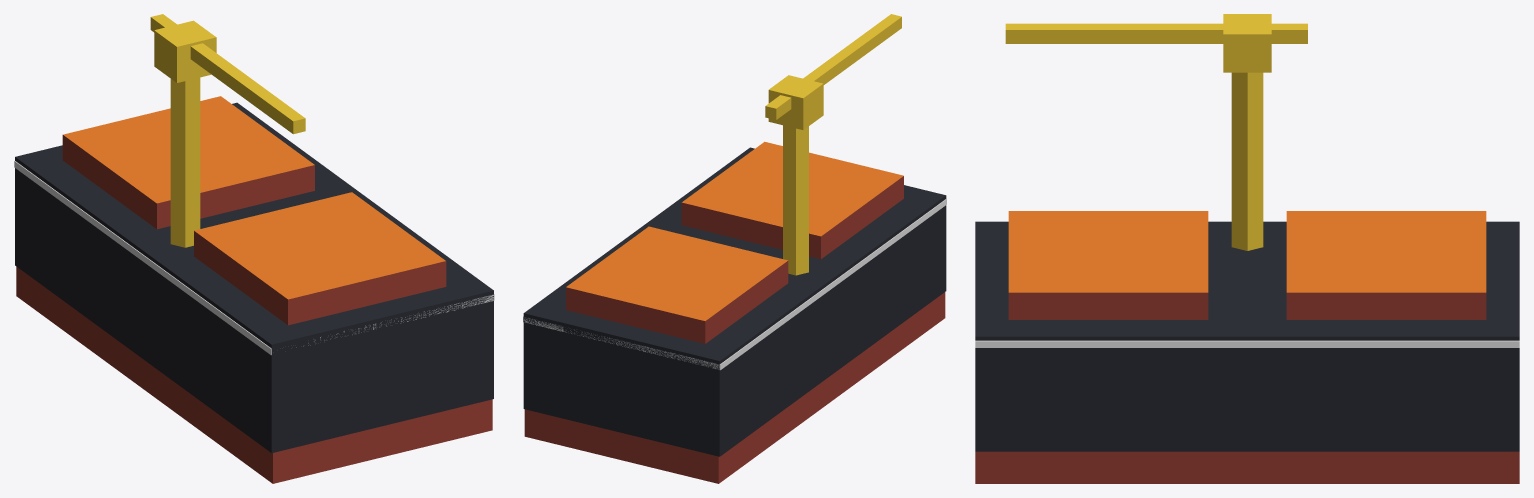
Rendered from granelero_carga.obj.
3 views of the same model, side by side, from view 1: azimuth 30°, elevation 25°; view 2: azimuth 150°, elevation 25°; view 3: azimuth 270°, elevation 25° (orthographic). The views are drawn at different scales.
Visible parts, largest first — view 1: granelero_carga; view 2: granelero_carga; view 3: granelero_carga.
Boxes of the visible parts, <box> form: granelero_carga: <box>14,14,494,483</box>; granelero_carga: <box>523,14,946,483</box>; granelero_carga: <box>975,14,1519,483</box>.
Size of the model in its own units: 9.06 by 13.4 by 18.
